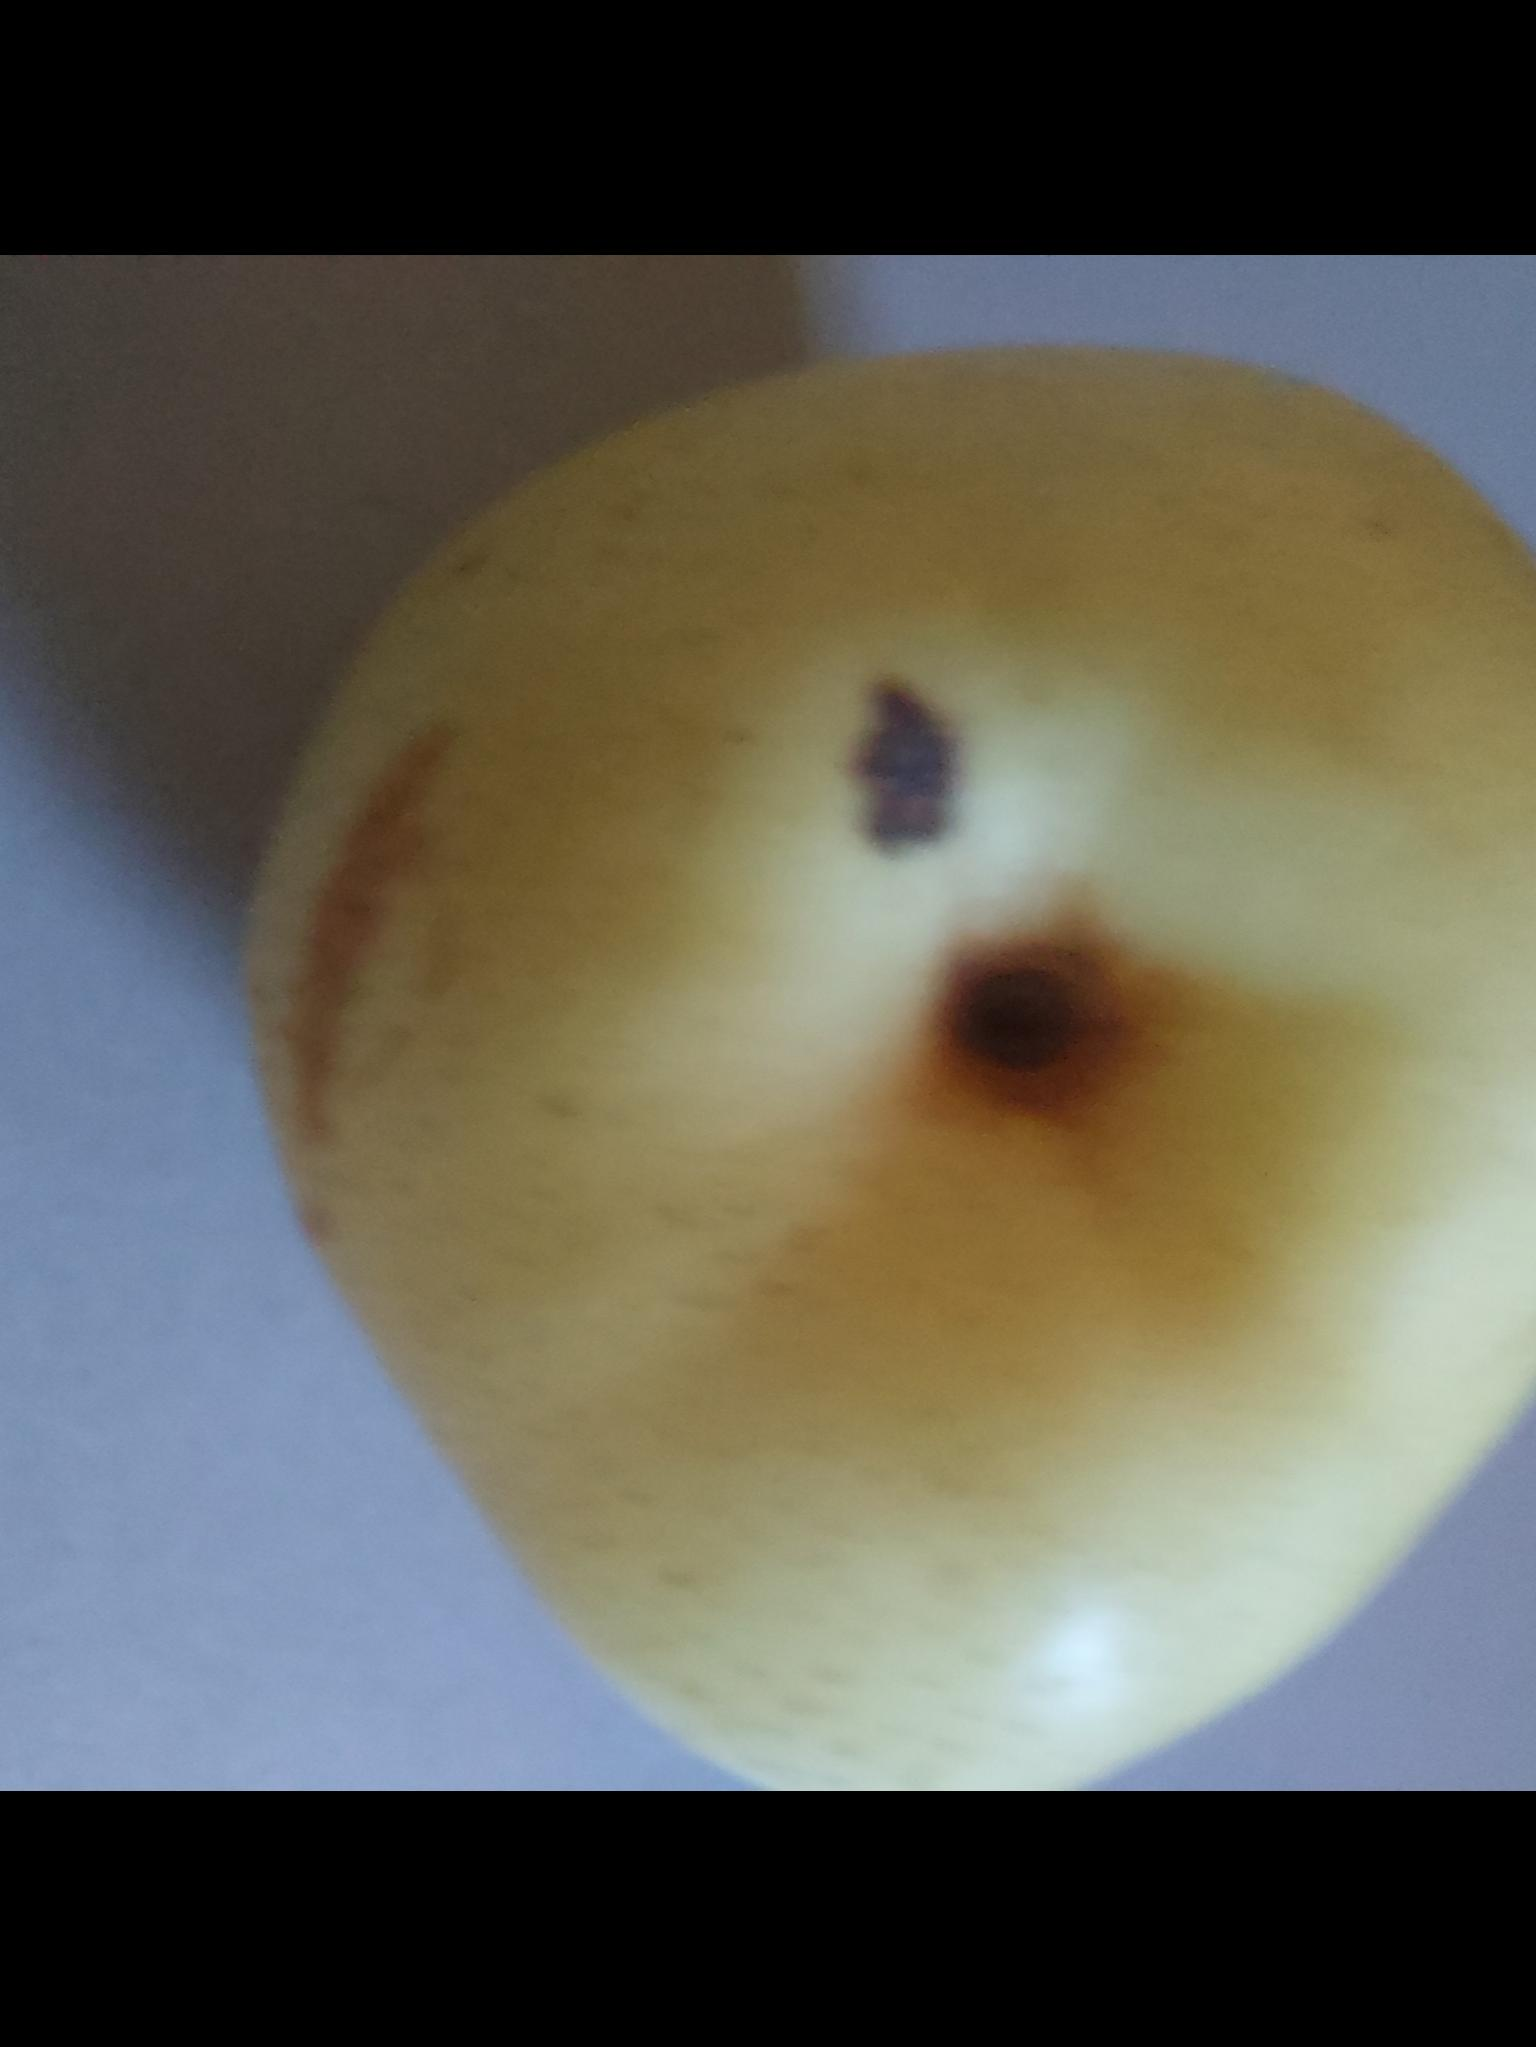Good Pear: (203, 268, 1536, 1792)
